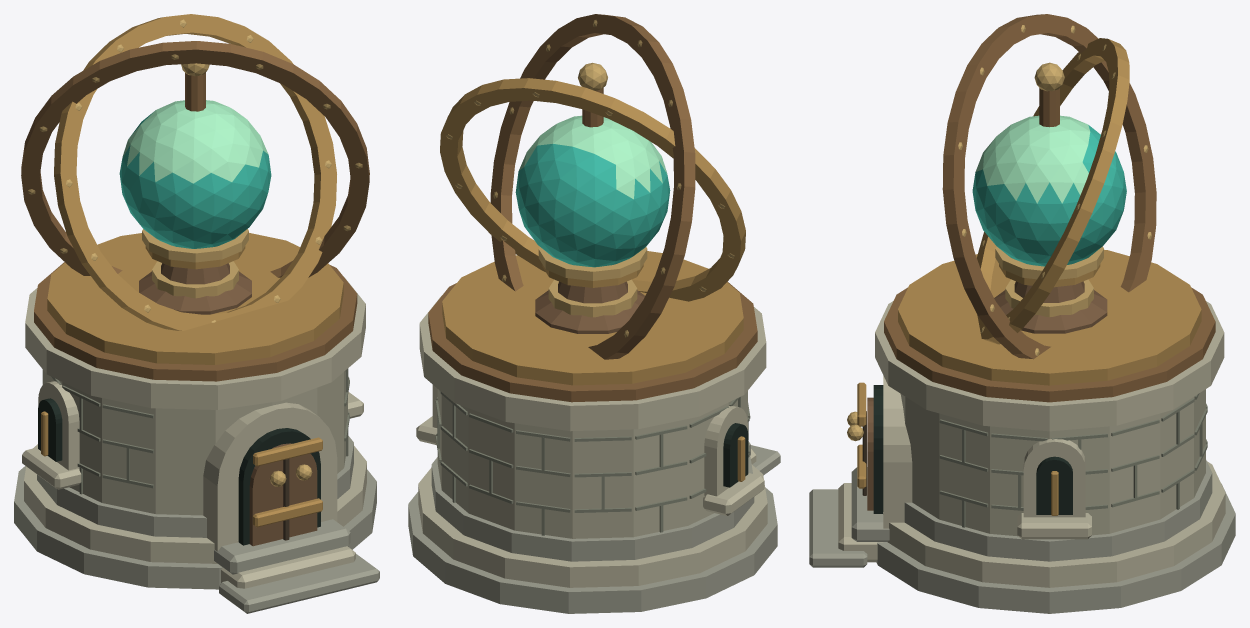
Rendered from b_armillary.glb.
The picture shows the model from 3 angles, left to right: view 1: azimuth 30°, elevation 25°; view 2: azimuth 150°, elevation 25°; view 3: azimuth 270°, elevation 25°; orthographic projection.
Visible parts, largest first — view 1: Stone, Metal, Glow, Timber; view 2: Stone, Metal, Glow, Timber; view 3: Stone, Metal, Glow, Timber.
Part boxes in pixels (x1=…): Stone: x1=14, y1=277, x2=379, y2=613; Metal: x1=21, y1=14, x2=369, y2=527; Glow: x1=119, y1=100, x2=271, y2=248; Timber: x1=139, y1=263, x2=317, y2=546; Stone: x1=408, y1=295, x2=780, y2=613; Metal: x1=428, y1=14, x2=757, y2=481; Glow: x1=515, y1=115, x2=670, y2=267; Timber: x1=535, y1=281, x2=644, y2=333; Stone: x1=809, y1=301, x2=1235, y2=613; Metal: x1=847, y1=14, x2=1215, y2=515; Glow: x1=972, y1=115, x2=1126, y2=266; Timber: x1=862, y1=281, x2=1107, y2=510.
Bounding box in the file's own units: 2.41 × 3.57 × 2.76.
